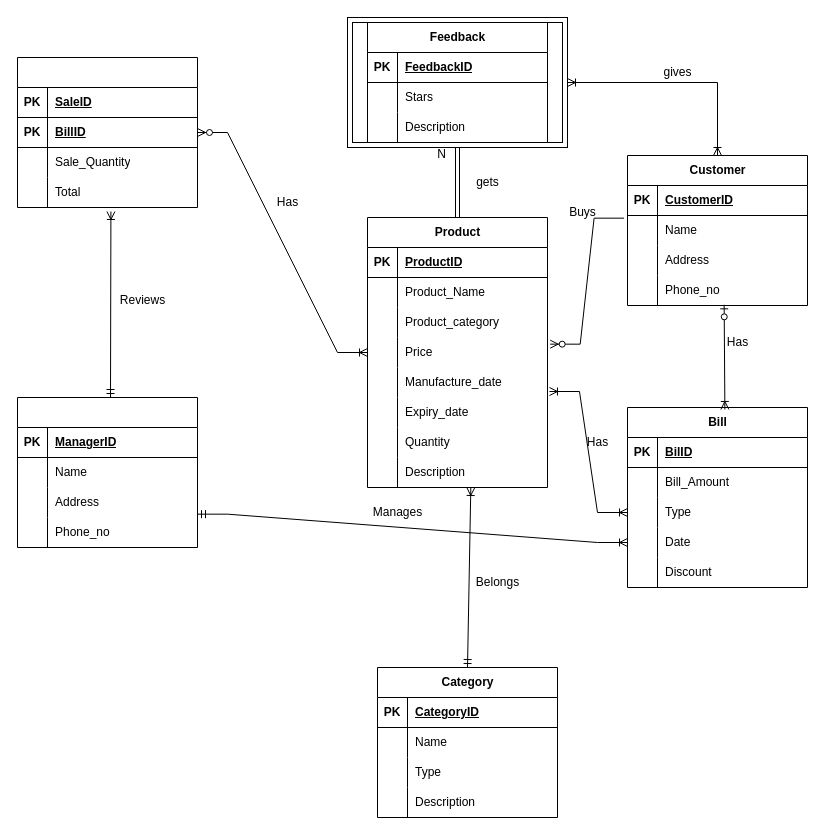
Some shapes in this 825 by 835 pixel diagram are drawn without their labels. The box of each missing label's shape, as (x1, y1, x2, y2) in pixels:
Sales: (16, 56, 198, 208)
Sales Manager: (16, 396, 198, 548)
